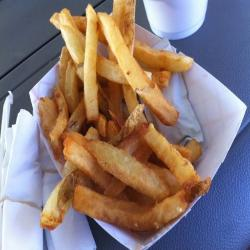fries: (46, 7, 201, 230)
